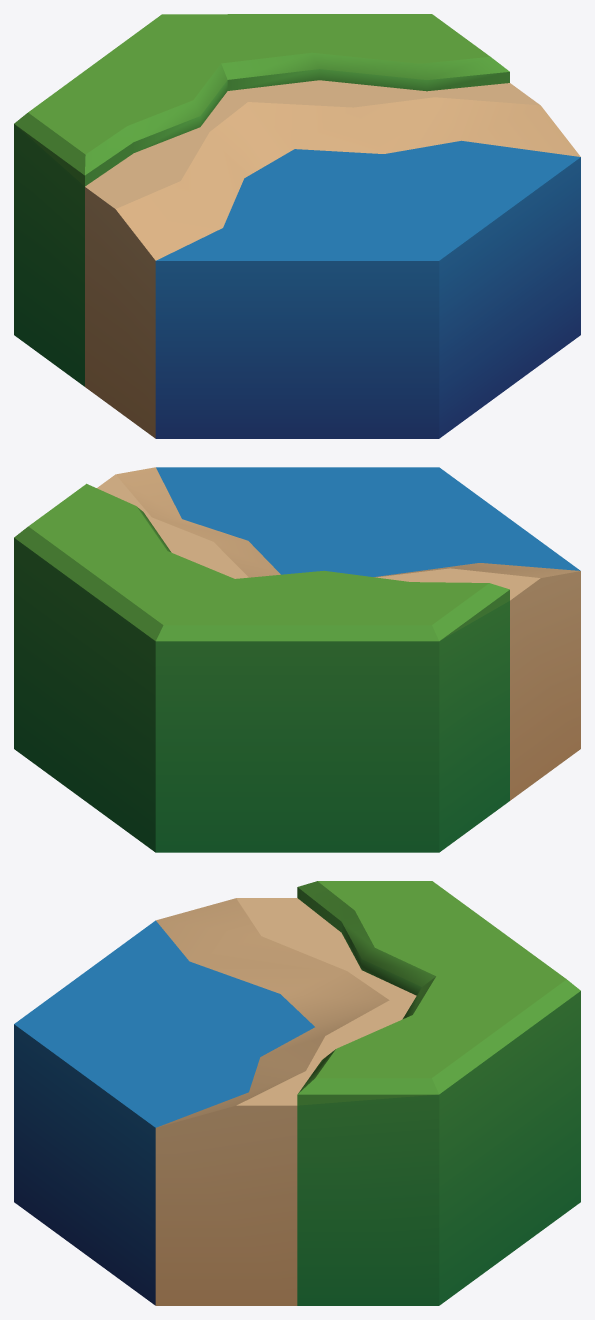
Rendered from hex_coast_2.glb.
3 views of the same model, one above another, from view 1: azimuth 30°, elevation 25°; view 2: azimuth 150°, elevation 25°; view 3: azimuth 270°, elevation 25° (orthographic).
Parts seen in each view (by area): view 1: hex_coast_2; view 2: hex_coast_2; view 3: hex_coast_2.
Boxes of the visible parts, left/top/right/bottom form: hex_coast_2: left=14, top=14, right=580, bottom=438; hex_coast_2: left=14, top=467, right=580, bottom=852; hex_coast_2: left=14, top=881, right=580, bottom=1305.
Bounding box in the file's own units: 1 × 0.5 × 1.15.
Materials: 1 (1 with a texture image).
